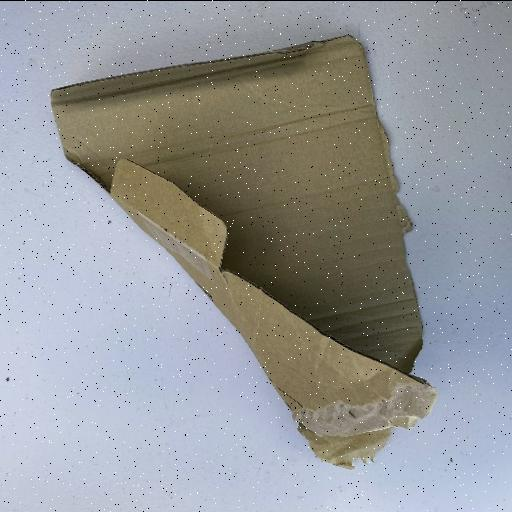Cardboard: (48, 32, 437, 469)
